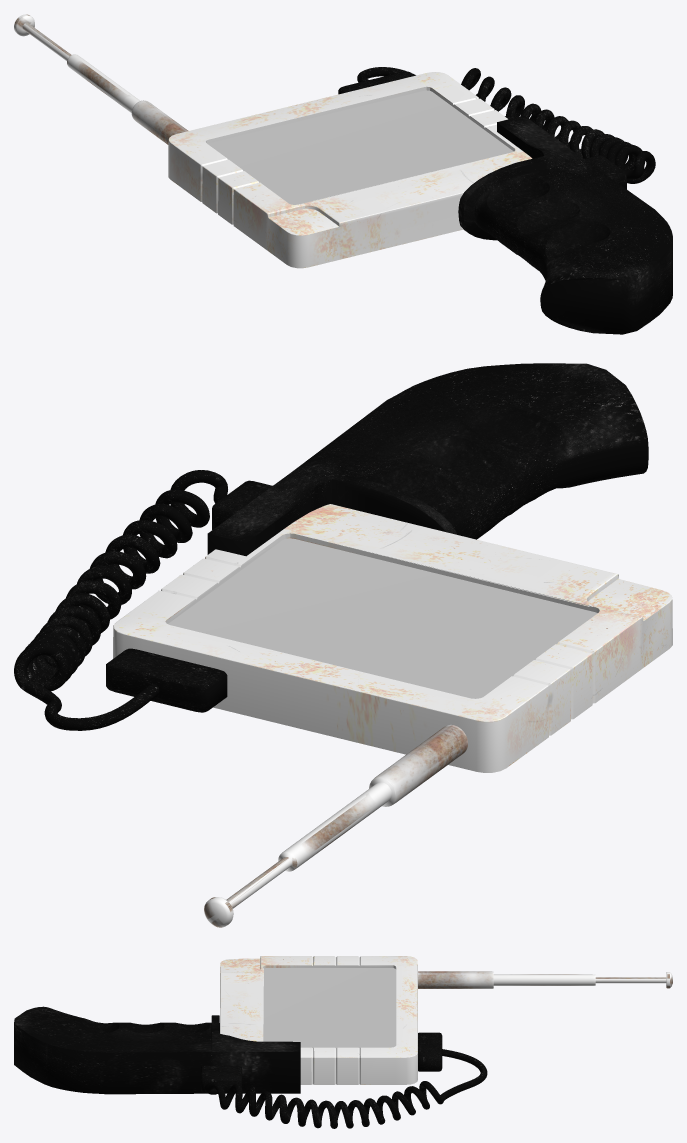
The model's file is RadarScanner.fbx.
3 views of the same model, one above another, from view 1: azimuth 30°, elevation 25°; view 2: azimuth 150°, elevation 25°; view 3: azimuth 270°, elevation 25° (orthographic). The views are drawn at different scales.
Parts seen in each view (by area): view 1: main.001, handle.001, wire.001, receiver_2.001, receiver_1.001, receiver_3.001; view 2: main.001, handle.001, wire.001, receiver_1.001, receiver_2.001, receiver_3.001; view 3: main.001, handle.001, wire.001, receiver_1.001, receiver_2.001, receiver_3.001.
Boxes of the visible parts, x1=… form: main.001: x1=168, y1=72, x2=532, y2=268; handle.001: x1=458, y1=115, x2=672, y2=334; wire.001: x1=338, y1=67, x2=655, y2=189; receiver_2.001: x1=67, y1=54, x2=140, y2=112; receiver_1.001: x1=131, y1=100, x2=188, y2=144; receiver_3.001: x1=14, y1=14, x2=71, y2=60; main.001: x1=113, y1=504, x2=672, y2=772; handle.001: x1=207, y1=363, x2=648, y2=556; wire.001: x1=14, y1=470, x2=272, y2=730; receiver_1.001: x1=369, y1=724, x2=467, y2=806; receiver_2.001: x1=278, y1=782, x2=391, y2=871; receiver_3.001: x1=204, y1=857, x2=291, y2=927; main.001: x1=220, y1=956, x2=417, y2=1084; handle.001: x1=14, y1=1006, x2=300, y2=1094; wire.001: x1=201, y1=1032, x2=487, y2=1128; receiver_1.001: x1=418, y1=971, x2=493, y2=988; receiver_2.001: x1=493, y1=974, x2=595, y2=985; receiver_3.001: x1=595, y1=972, x2=672, y2=988.
Size of the model in its own units: 0.6363 by 0.1313 by 1.32.
